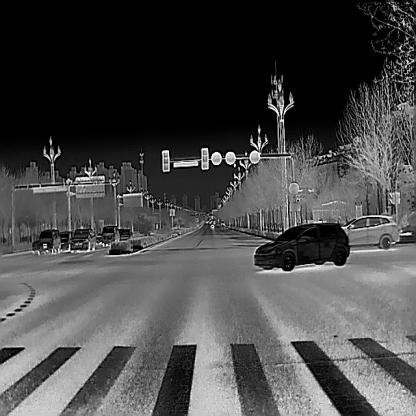car: (252, 222, 350, 271), (338, 214, 400, 249), (68, 227, 96, 253), (37, 228, 61, 254), (101, 224, 119, 246), (59, 229, 72, 251), (119, 228, 132, 242), (209, 223, 214, 230), (220, 223, 225, 229)
